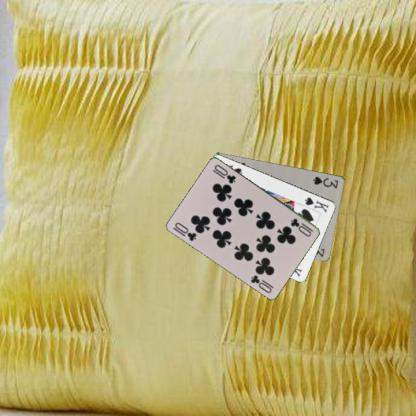10c: (288, 216, 314, 238), (173, 220, 198, 242)
3s: (310, 174, 340, 190)
Ks: (302, 194, 330, 214)
